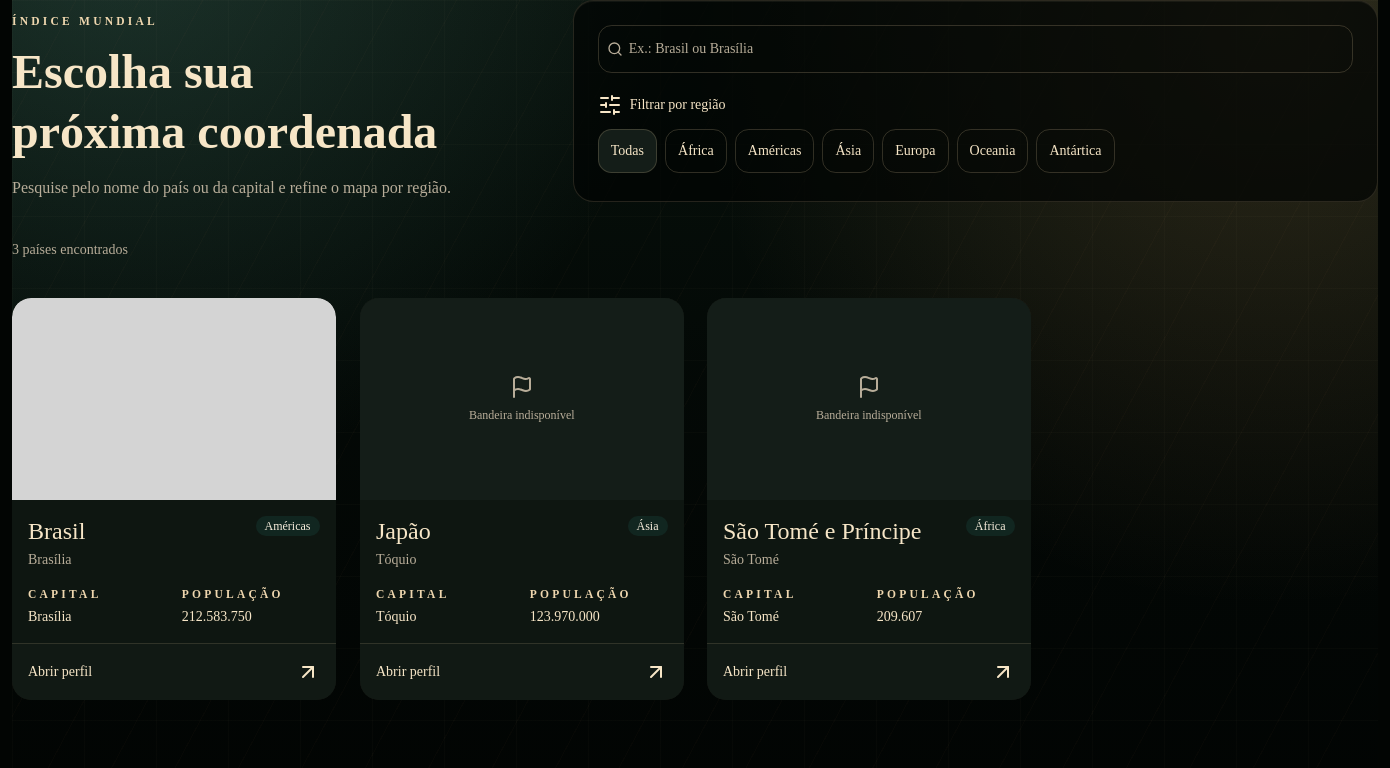
Test: CountryCatalog › combines accent-insensitive search and region filtering
The image size is (1390, 768).
Expected: the message reads "3 países encontrados", [12,242,128,257]
In the search field named "Buscar por país ou capital": (987, 49) [623,25,1352,73], type "sao tome"
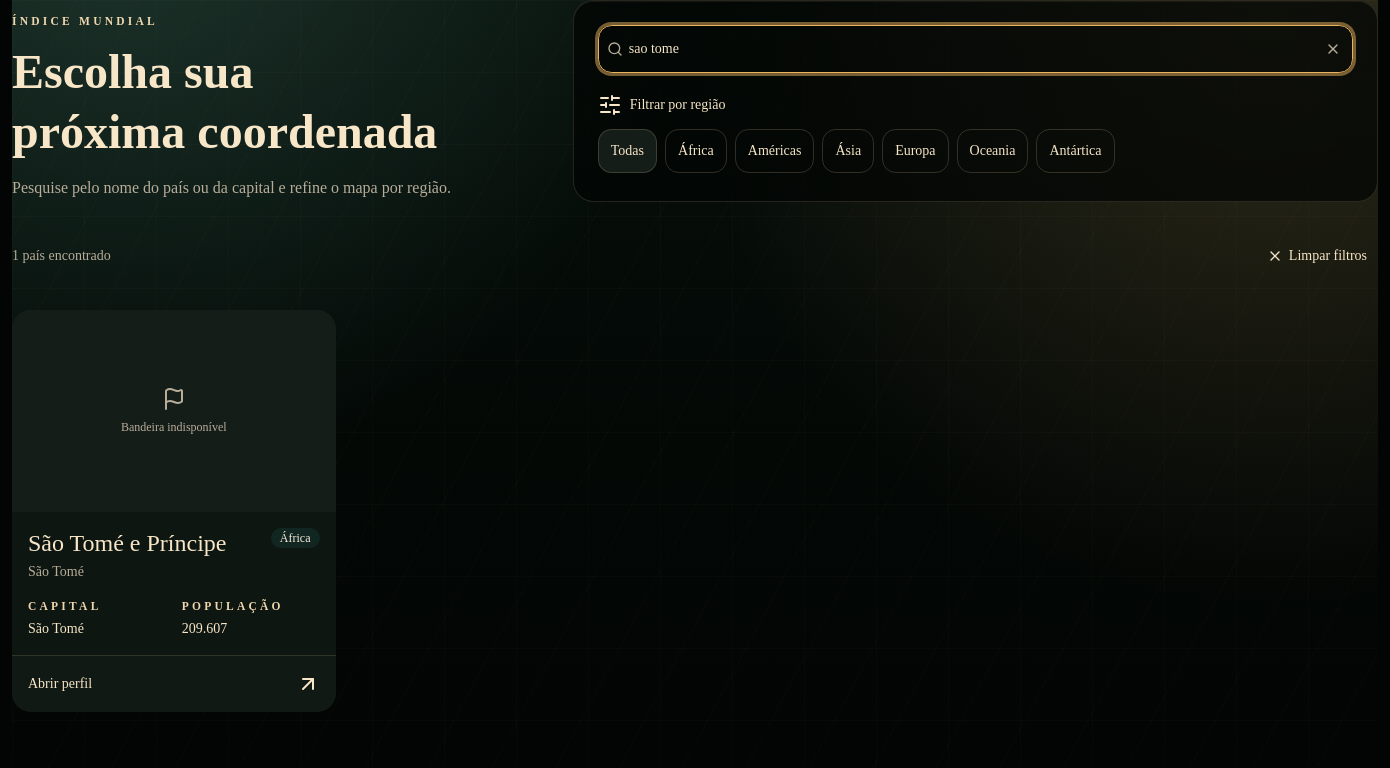
Expected: the link is shown, [12,310,336,712]
Expected: the message reads "1 país encontrado", [12,248,111,263]
Click the button "Américas": (775, 151) [735,129,814,173]
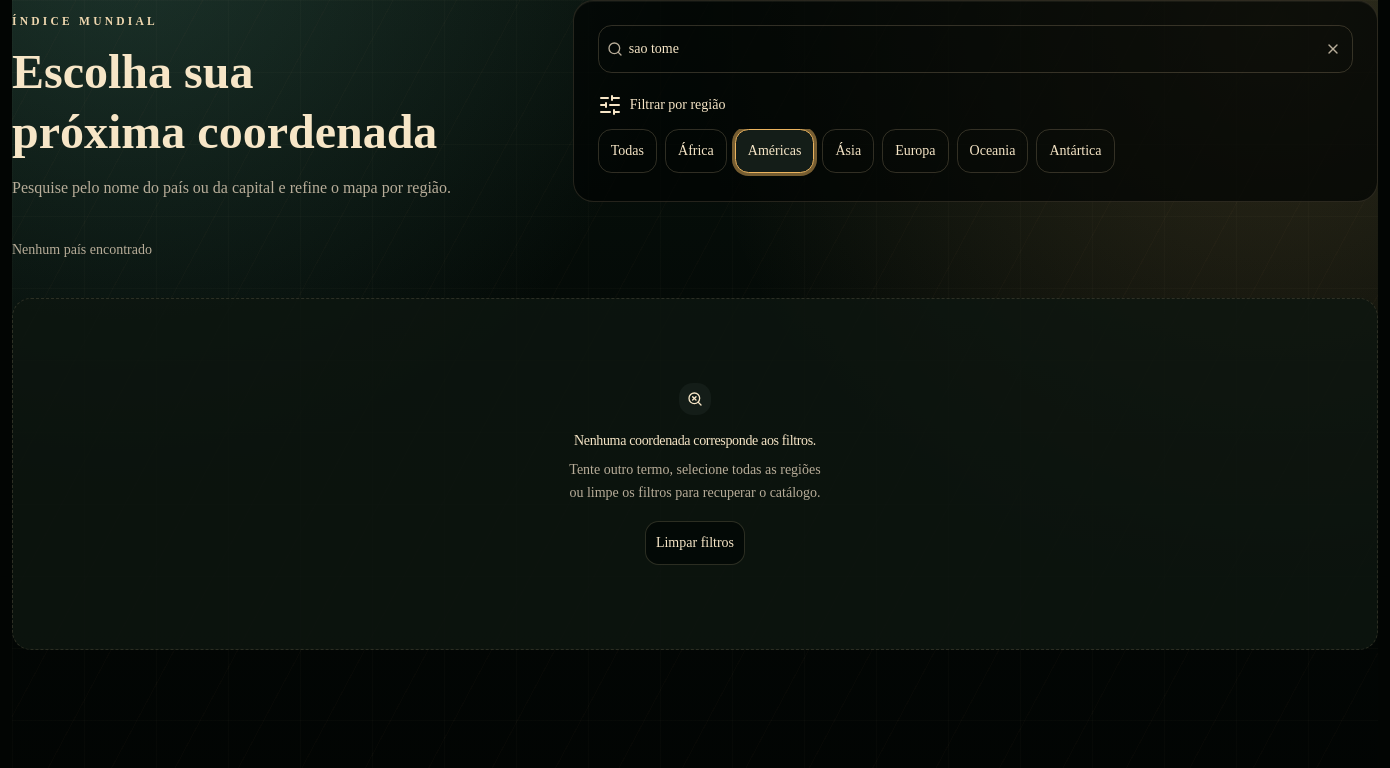
Expected: the heading "Nenhuma coordenada corresponde aos filtros." is shown, [574,431,816,451]
Expected: the message reads "Nenhum país encontrado", [12,242,152,257]
Click the button "Limpar filtros": (695, 543) [645,521,745,565]
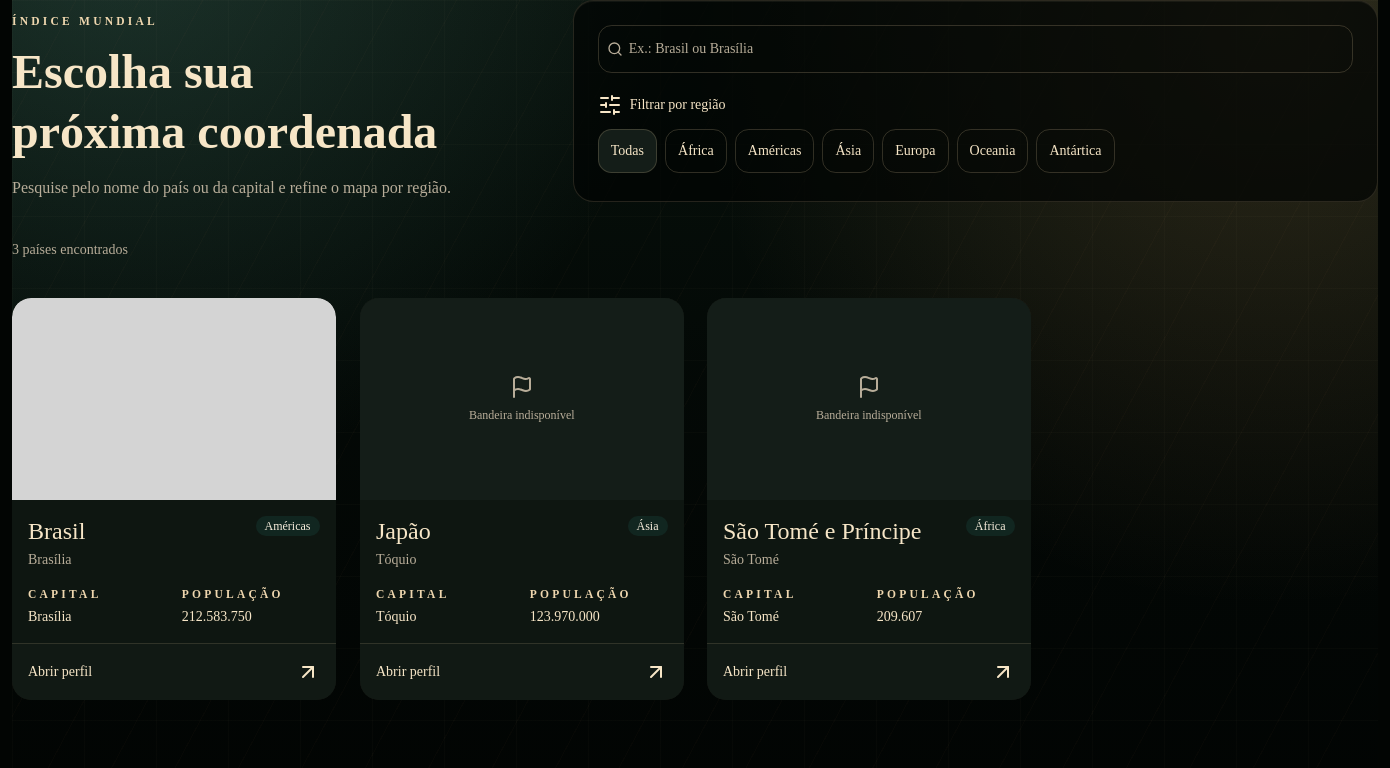
Expected: the message reads "3 países encontrados", [12,242,128,257]
Expected: the search field is empty, [623,25,1352,73]
